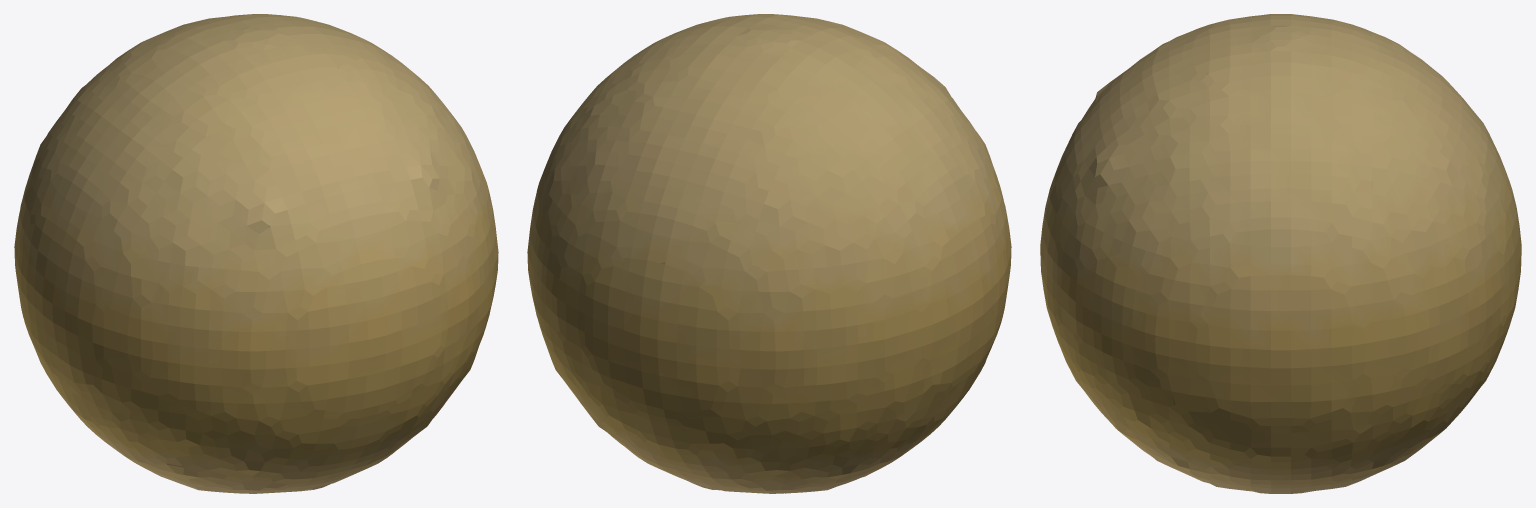
File: kingSlime.glb
The picture shows the model from 3 angles, left to right: view 1: azimuth 30°, elevation 25°; view 2: azimuth 150°, elevation 25°; view 3: azimuth 270°, elevation 25°; orthographic projection.
Parts seen in each view (by area): view 1: geometry_0; view 2: geometry_0; view 3: geometry_0.
Boxes of the visible parts, x1,y1,x2,y2 form: geometry_0: (14, 14, 498, 493); geometry_0: (527, 14, 1011, 493); geometry_0: (1040, 14, 1521, 493).
Size of the model in its own units: 1.02 by 0.9937 by 1.02.
1 material, 1 textured.
